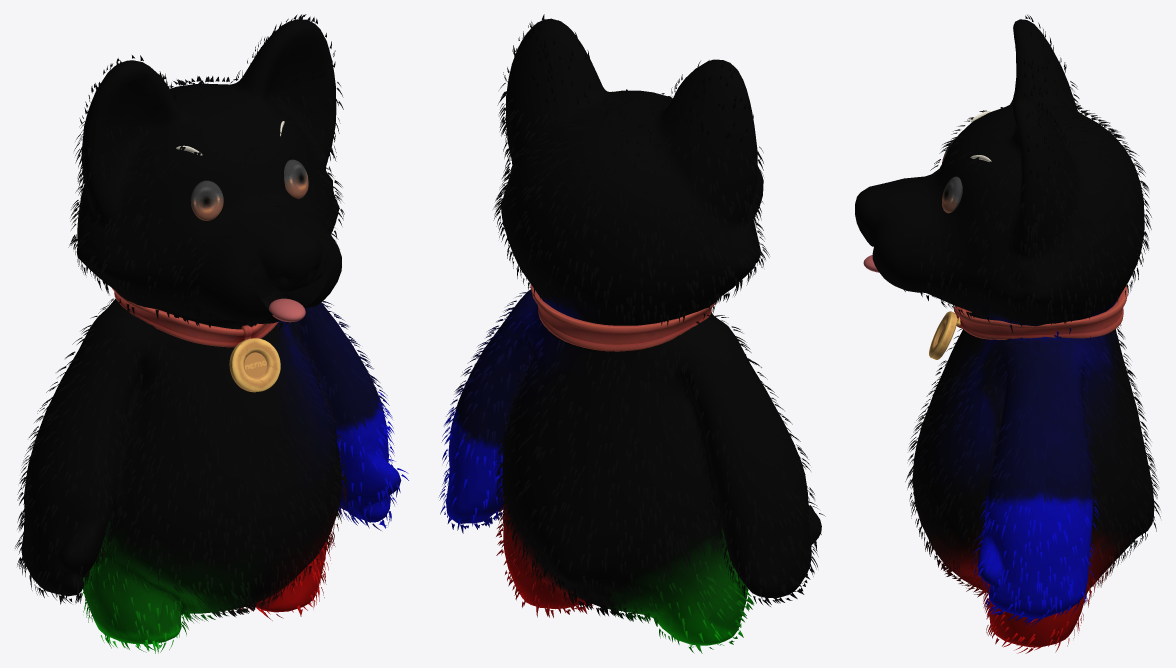
Rendered from nemo_shell_v14.glb.
3 views of the same model, side by side, from view 1: azimuth 30°, elevation 25°; view 2: azimuth 150°, elevation 25°; view 3: azimuth 270°, elevation 25° (orthographic). The views are drawn at different scales.
Parts seen in each view (by area): view 1: BoundedShellGroom, Body, LayeredCurvedGroom, Collar, Nemo_Normal, Small tongue inside smile; view 2: BoundedShellGroom, LayeredCurvedGroom, Body, Collar; view 3: BoundedShellGroom, LayeredCurvedGroom, Body, Collar, Nemo_Normal.
Part boxes in pixels (bbox=[...]): BoundedShellGroom: bbox=[21, 19, 401, 644]; Body: bbox=[23, 47, 387, 630]; LayeredCurvedGroom: bbox=[15, 14, 408, 653]; Collar: bbox=[111, 287, 280, 392]; Nemo_Normal: bbox=[190, 159, 308, 220]; Small tongue inside smile: bbox=[269, 298, 305, 322]; BoundedShellGroom: bbox=[446, 18, 821, 645]; LayeredCurvedGroom: bbox=[438, 14, 825, 653]; Body: bbox=[448, 73, 816, 627]; Collar: bbox=[530, 284, 715, 351]; BoundedShellGroom: bbox=[855, 19, 1154, 647]; LayeredCurvedGroom: bbox=[904, 15, 1160, 653]; Body: bbox=[858, 74, 1137, 609]; Collar: bbox=[929, 285, 1127, 359]; Nemo_Normal: bbox=[942, 138, 962, 213].
Bounding box in the file's own units: 1.74 × 2.73 × 1.37.
Materials: 8 (5 with a texture image).
